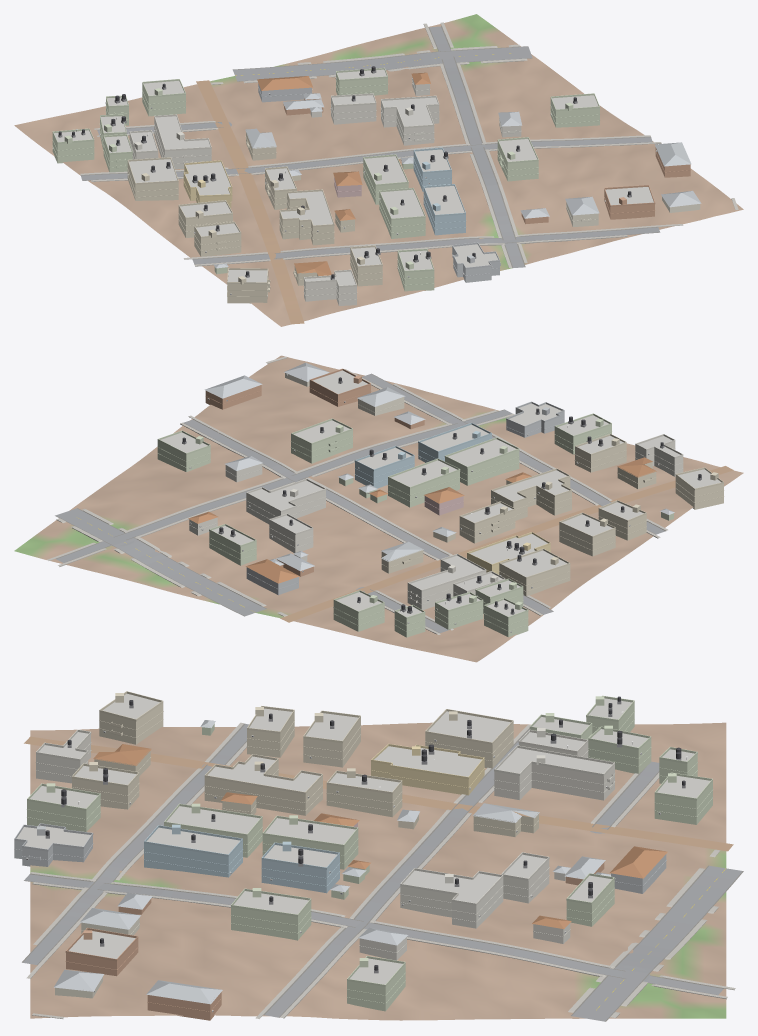
The picture shows the model from 3 angles, top to bottom: view 1: azimuth 30°, elevation 25°; view 2: azimuth 150°, elevation 25°; view 3: azimuth 270°, elevation 25°; orthographic projection. The views are drawn at different scales.
Visible parts, largest first — view 1: Terrain-col, Buildings-col, Roads-col, Details, Sidewalks-col; view 2: Terrain-col, Buildings-col, Details, Roads-col, Sidewalks-col; view 3: Terrain-col, Buildings-col, Roads-col, Details, Sidewalks-col.
Boxes of the visible parts, bbox=[...] form: Terrain-col: bbox=[14, 14, 743, 326]; Buildings-col: bbox=[52, 69, 701, 305]; Roads-col: bbox=[80, 26, 660, 324]; Details: bbox=[52, 66, 690, 300]; Sidewalks-col: bbox=[80, 22, 738, 267]; Terrain-col: bbox=[14, 355, 743, 662]; Buildings-col: bbox=[157, 362, 723, 637]; Details: bbox=[157, 368, 724, 632]; Roads-col: bbox=[55, 373, 733, 633]; Sidewalks-col: bbox=[47, 356, 667, 634]; Terrain-col: bbox=[30, 722, 726, 1020]; Buildings-col: bbox=[14, 693, 712, 1020]; Roads-col: bbox=[22, 723, 743, 1021]; Details: bbox=[14, 691, 713, 1012]; Sidewalks-col: bbox=[26, 722, 735, 1018].
Size of the model in its own units: 270 by 17.67 by 269.
